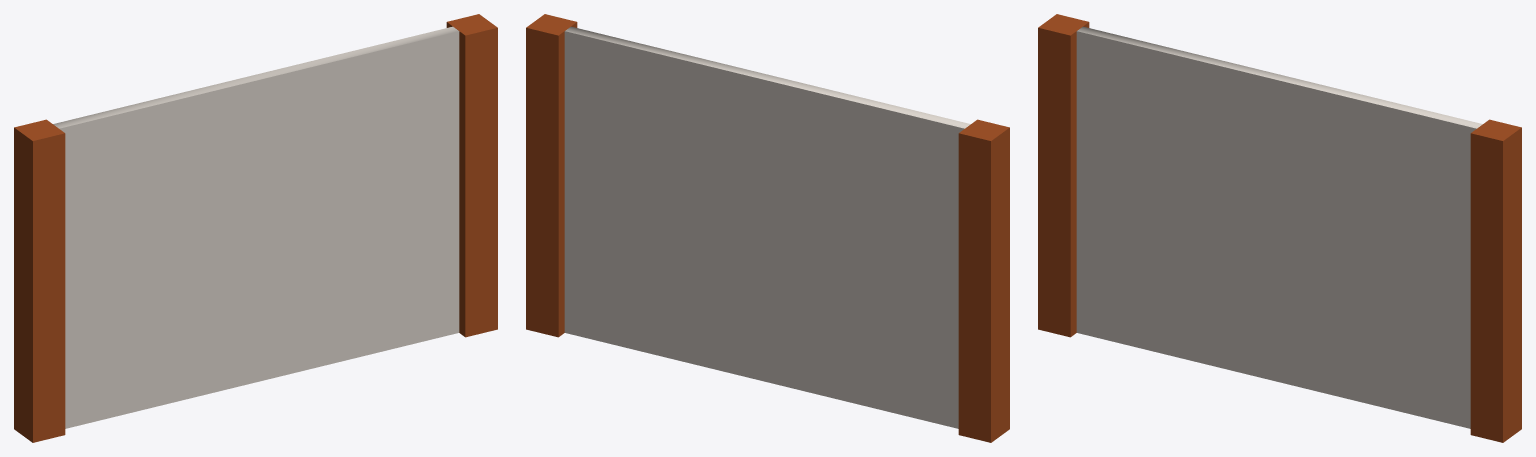
Rendered from Wall Modular Pieces.glb.
3 views of the same model, side by side, from view 1: azimuth 30°, elevation 25°; view 2: azimuth 150°, elevation 25°; view 3: azimuth 330°, elevation 25° (orthographic).
Visible parts, largest first — view 1: Wall, Column (×2); view 2: Wall, Column (×2); view 3: Wall, Column (×2).
Part boxes in pixels (x1,y1,x2,y2): Wall: [53, 26, 459, 428]; Column (×2): [14, 14, 497, 442]; Wall: [564, 26, 970, 428]; Column (×2): [526, 14, 1009, 442]; Wall: [1076, 26, 1482, 428]; Column (×2): [1038, 14, 1521, 442].
Bounding box in the file's own units: 6.45 × 4 × 0.45.
